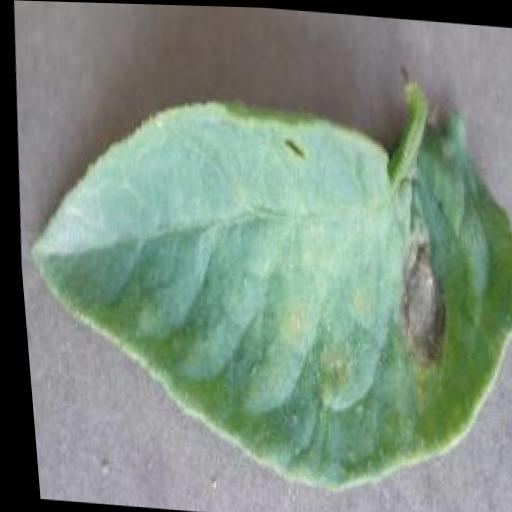Early Blight: (5, 82, 512, 507)
